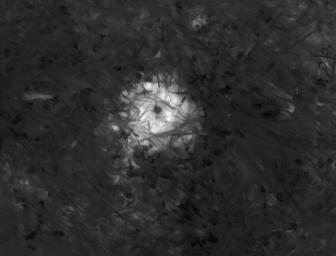landmine: (109, 61, 204, 163)
